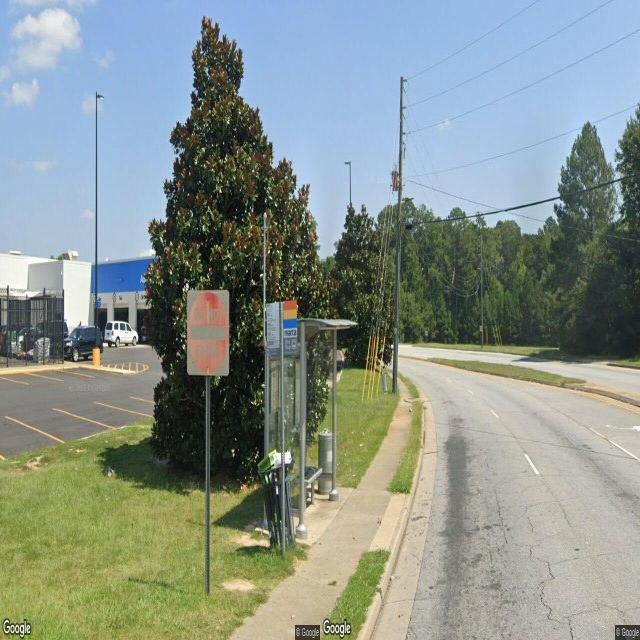seating: (296, 465, 324, 504)
shelter: (261, 314, 357, 534)
trash_can: (265, 454, 293, 547), (318, 429, 334, 489)
